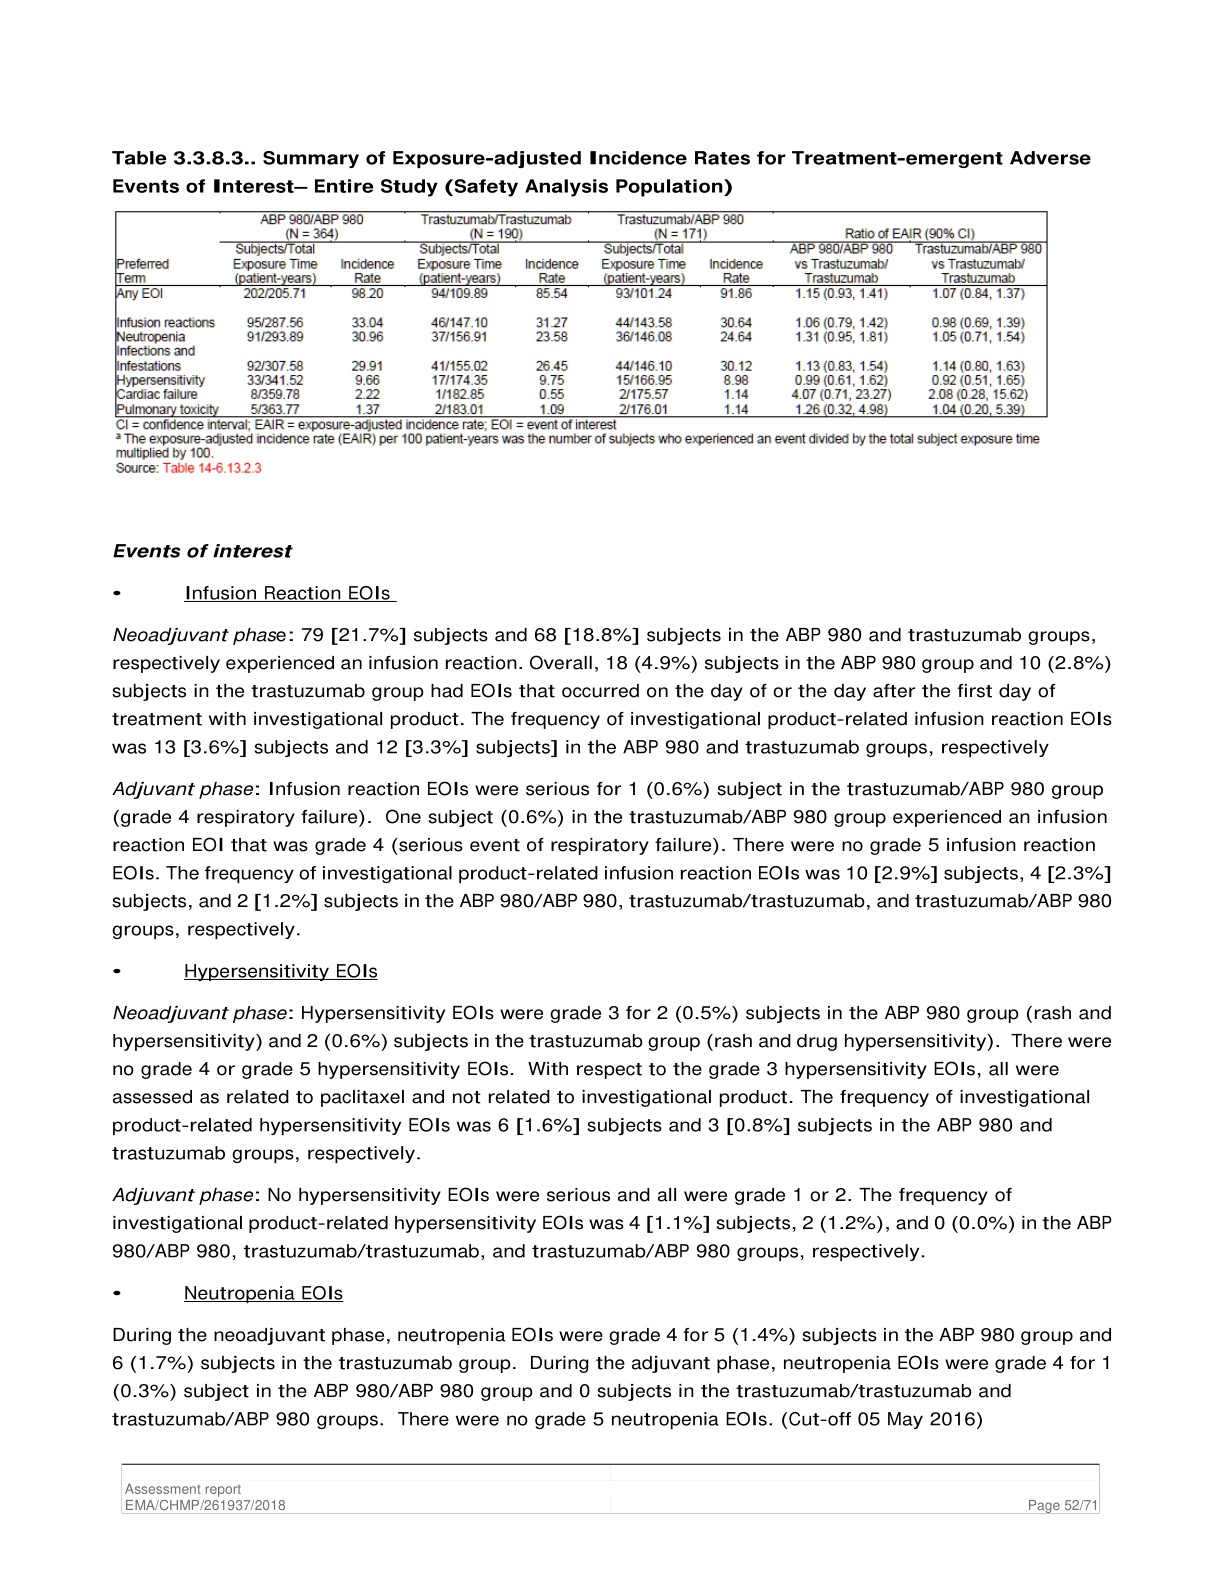partial_lined_merged_cells: (113, 210, 1050, 419)
